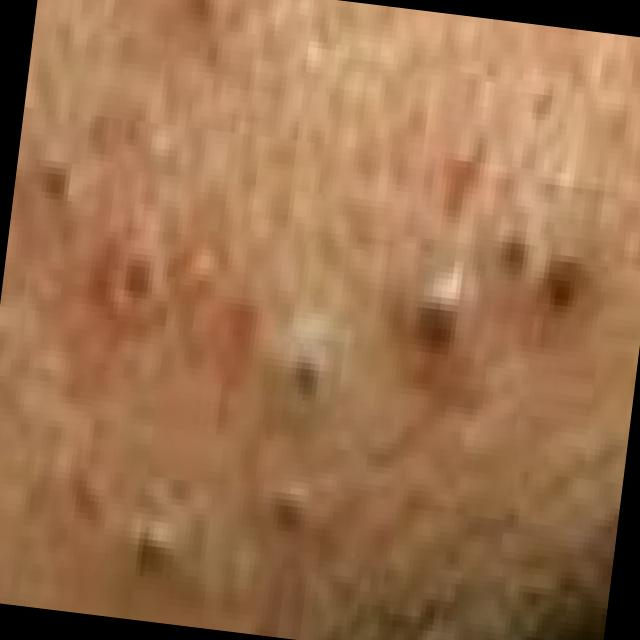blackhead: (414, 306, 452, 350), (36, 165, 70, 207), (122, 254, 152, 300), (134, 538, 167, 577), (544, 273, 576, 311), (270, 500, 302, 536), (290, 359, 318, 398), (497, 240, 526, 272)
